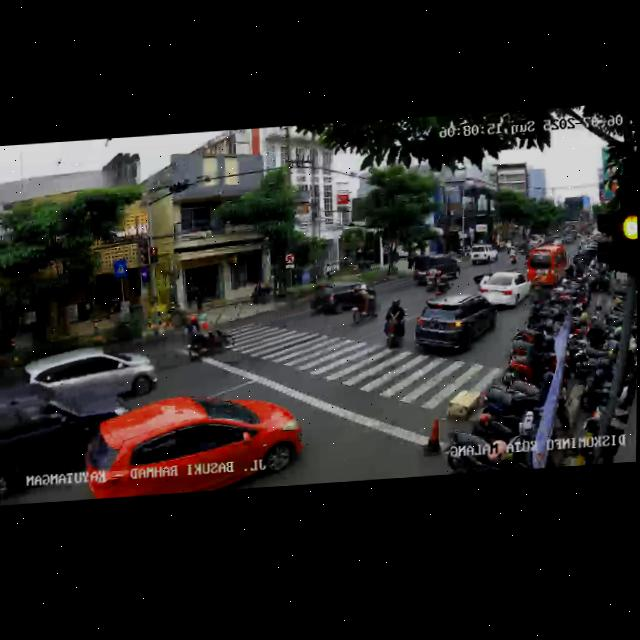car: (83, 387, 304, 499), (0, 387, 132, 489), (23, 340, 159, 408), (413, 292, 497, 358), (306, 275, 376, 316), (473, 269, 530, 313), (409, 251, 459, 290), (526, 242, 567, 289), (469, 242, 498, 266)
motorcycle: (182, 308, 230, 362), (346, 280, 377, 326), (382, 298, 406, 354), (508, 247, 517, 265)
